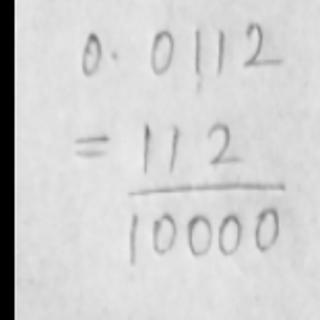.: (108, 46, 119, 62)
0: (79, 30, 106, 77), (150, 27, 174, 74), (154, 213, 179, 256), (188, 215, 212, 256), (257, 208, 279, 252), (221, 212, 242, 255)
1: (128, 213, 142, 267), (188, 28, 203, 75), (141, 123, 154, 176), (169, 125, 182, 171), (214, 29, 226, 76)
2: (246, 21, 283, 67), (207, 119, 242, 164)
